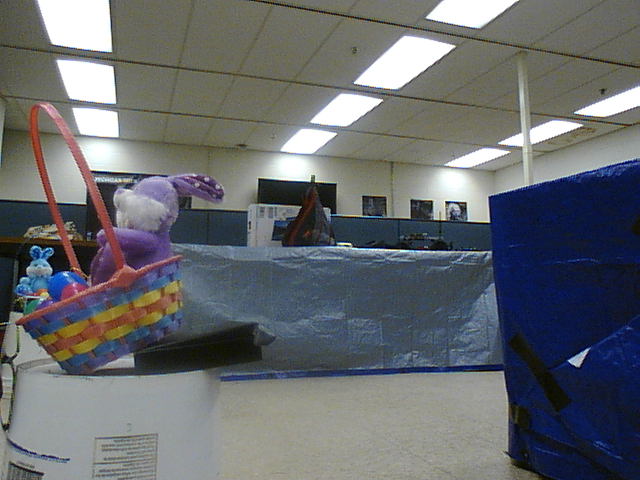bunny: (20, 103, 230, 381), (13, 244, 58, 303)
